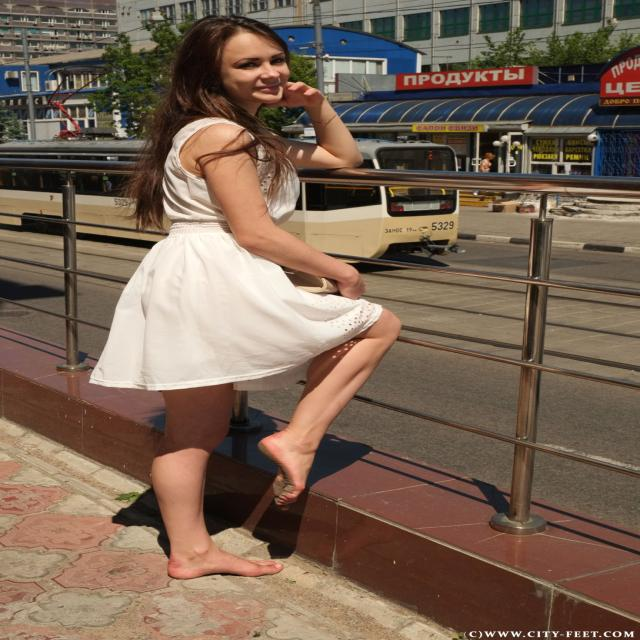No Safety Boots: (258, 430, 308, 511), (167, 550, 284, 579)
